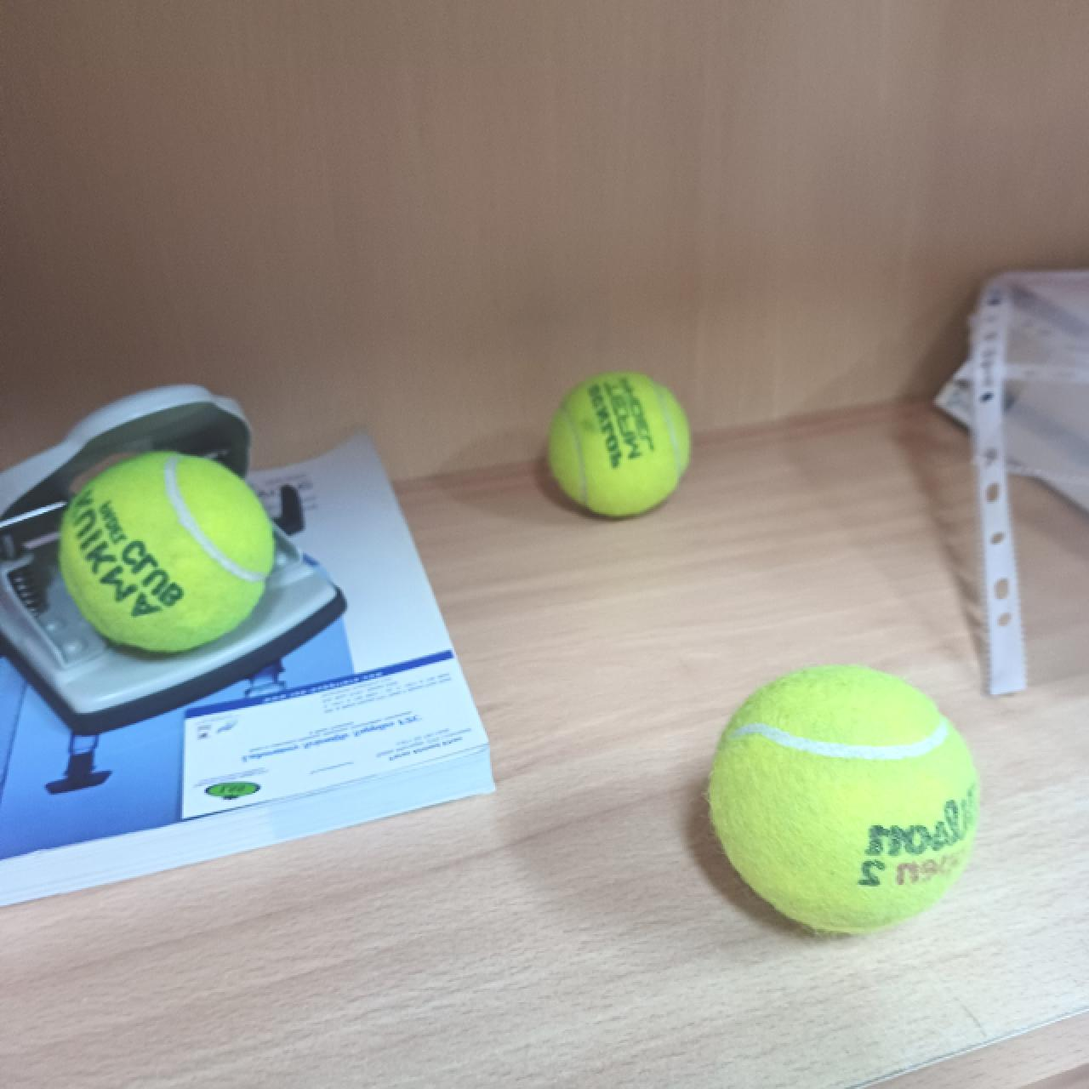tennis-ball: (699, 664, 982, 934), (56, 447, 280, 657), (542, 367, 696, 522)
